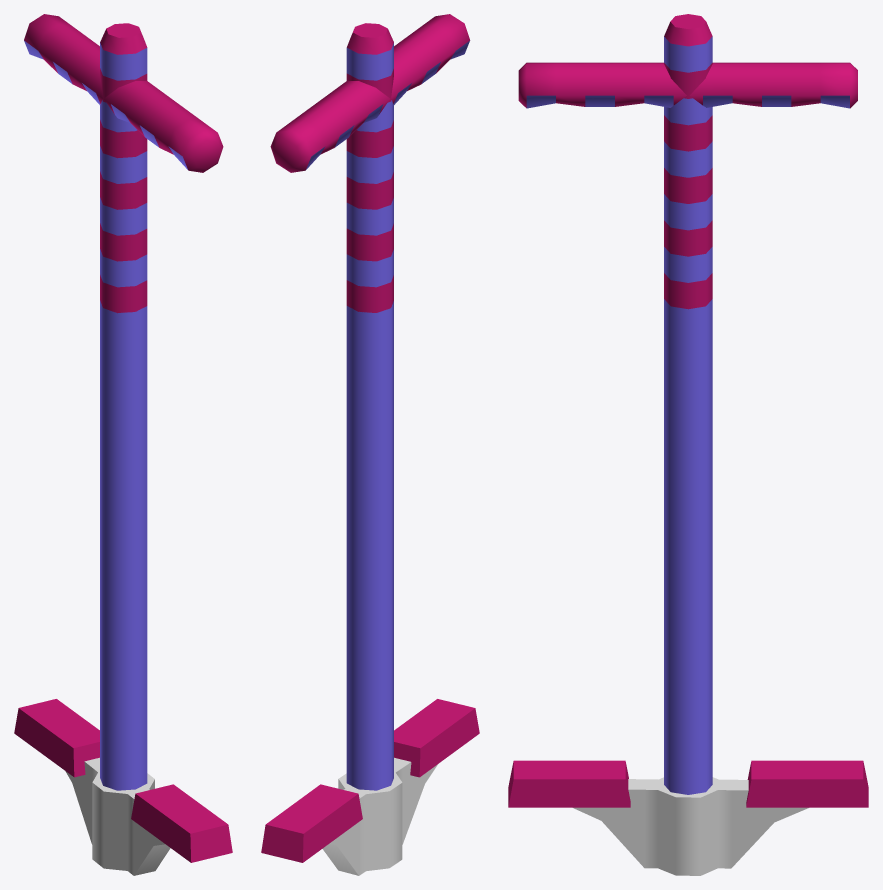
Rendered from Upper Part Jumper #4.fbx.
The picture shows the model from 3 angles, left to right: view 1: azimuth 30°, elevation 25°; view 2: azimuth 150°, elevation 25°; view 3: azimuth 270°, elevation 25°; orthographic projection.
Visible parts, largest first — view 1: Upper Part 3; view 2: Upper Part 3; view 3: Upper Part 3.
Part boxes in pixels (bbox=[...]): Upper Part 3: bbox=[14, 14, 232, 875]; Upper Part 3: bbox=[261, 14, 479, 875]; Upper Part 3: bbox=[508, 14, 868, 875].
Size of the model in its own units: 17.64 by 269 by 104.
